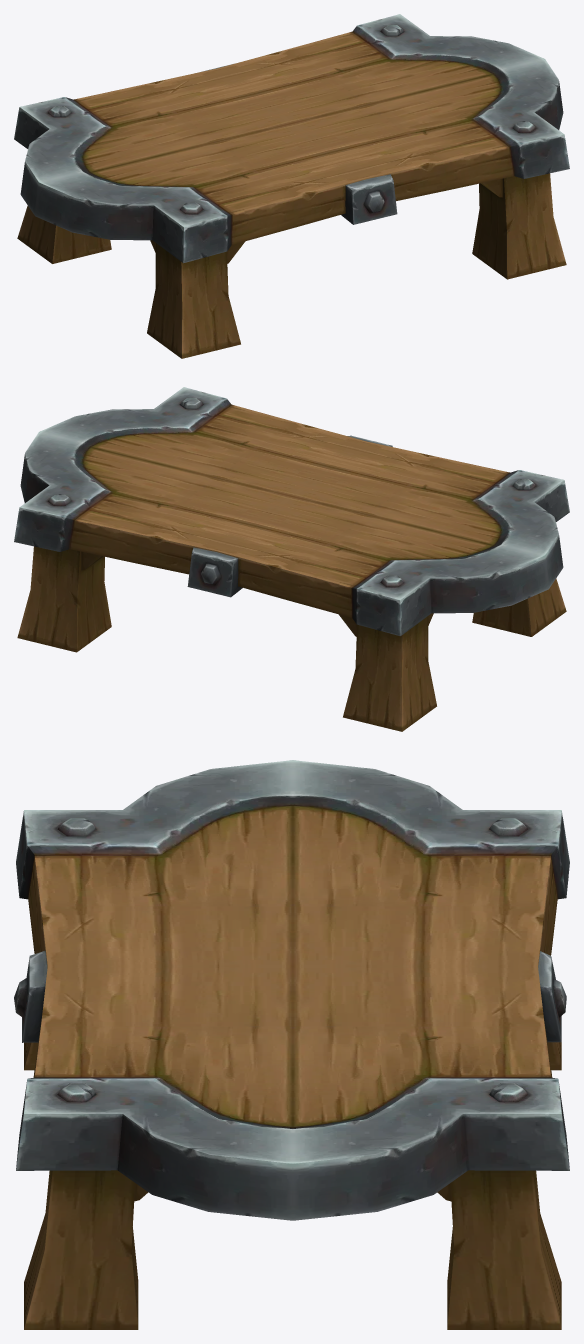
The picture shows the model from 3 angles, top to bottom: view 1: azimuth 30°, elevation 25°; view 2: azimuth 150°, elevation 25°; view 3: azimuth 270°, elevation 25°; orthographic projection. The views are drawn at different scales.
Bounding box in the file's own units: 3.08 × 0.7824 × 1.77.
1 material, 1 textured.
